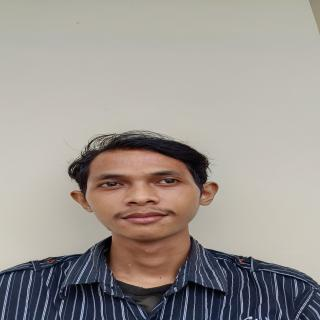Netral: (85, 148, 201, 243)
